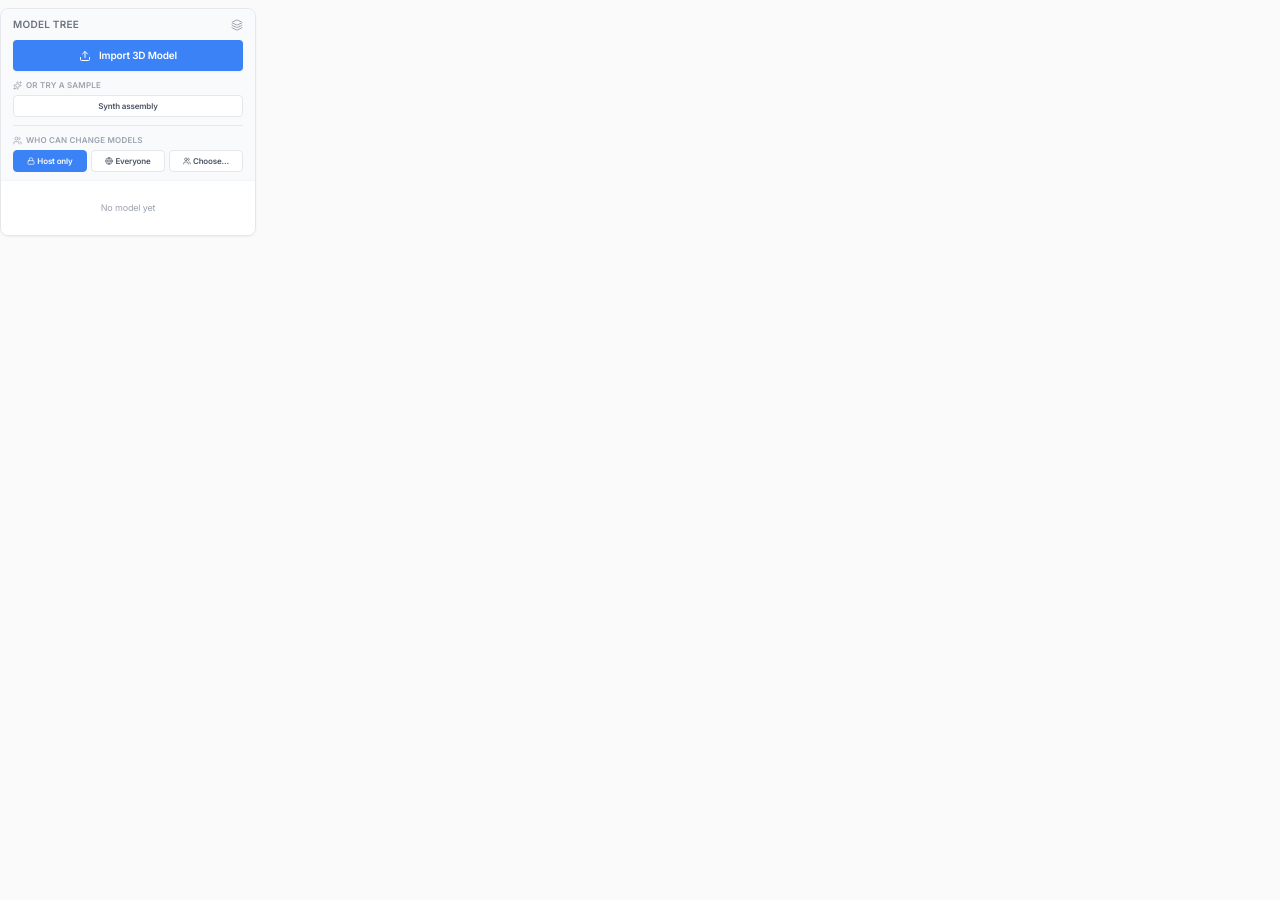
it: SceneTree — an empty room › chooses a sample through the same setBuiltIn an import would use
Click the button "Synth assembly".
click(128, 106)  # box [13, 95, 243, 117]
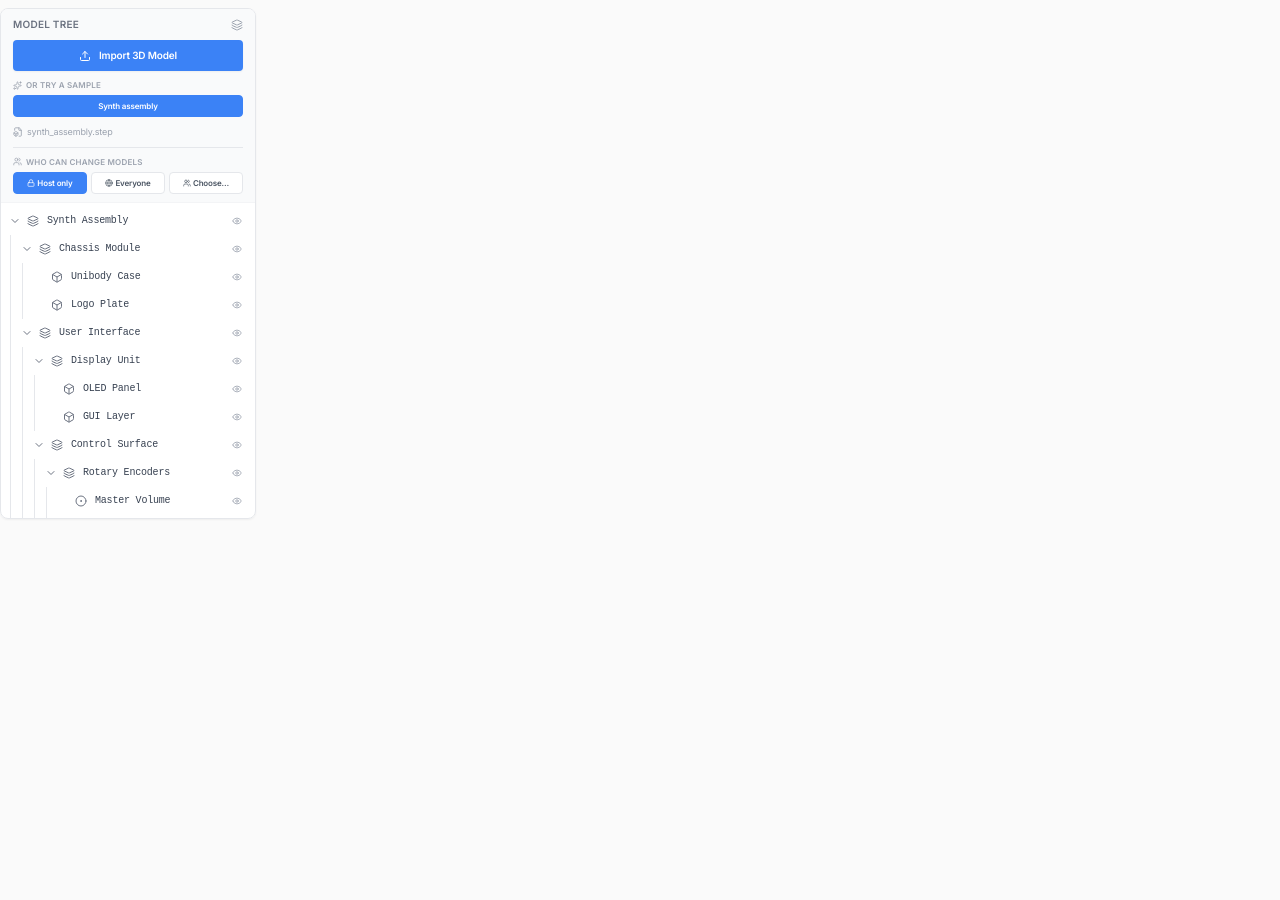
Check: the text "No model yet" is gone
Check: the text "synth_assembly.step" is shown, box [27, 125, 112, 138]
